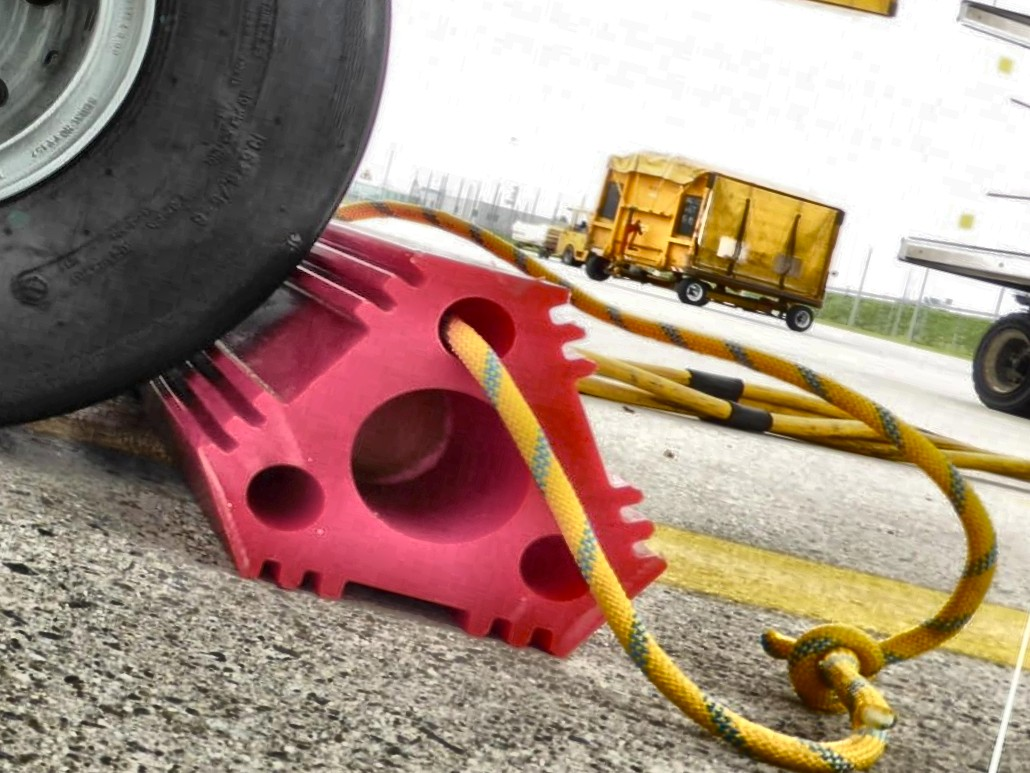chock: (97, 183, 730, 681)
wheel: (0, 0, 408, 538), (964, 307, 1030, 426), (675, 274, 712, 307), (782, 302, 815, 334), (584, 251, 615, 282), (555, 240, 582, 268)
